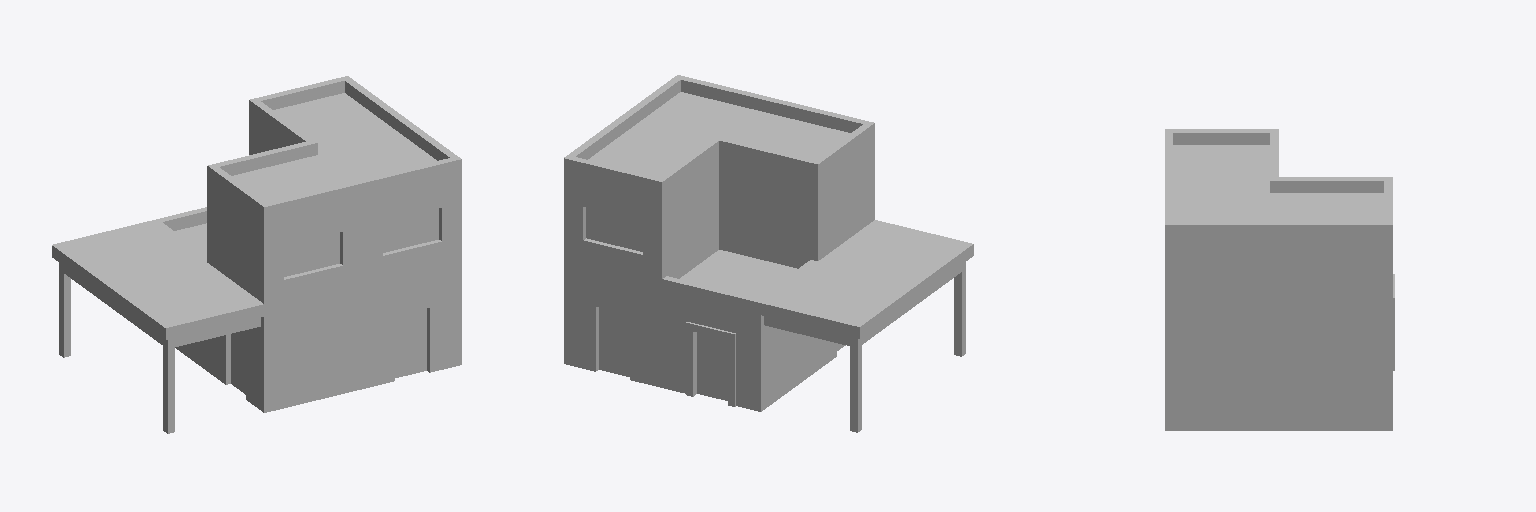
The model's file is city_house_n.obj.
The picture shows the model from 3 angles: view 1: azimuth 30°, elevation 25°; view 2: azimuth 150°, elevation 25°; view 3: azimuth 270°, elevation 25°; orthographic projection.
Parts seen in each view (by area): view 1: mergedBlocks; view 2: mergedBlocks; view 3: mergedBlocks.
Part boxes in pixels (left/top/right/bottom): mergedBlocks: left=52, top=76, right=461, bottom=433; mergedBlocks: left=564, top=75, right=973, bottom=432; mergedBlocks: left=1165, top=129, right=1394, bottom=430.
Bounding box in the file's own units: 0.768 × 0.51 × 0.5184.